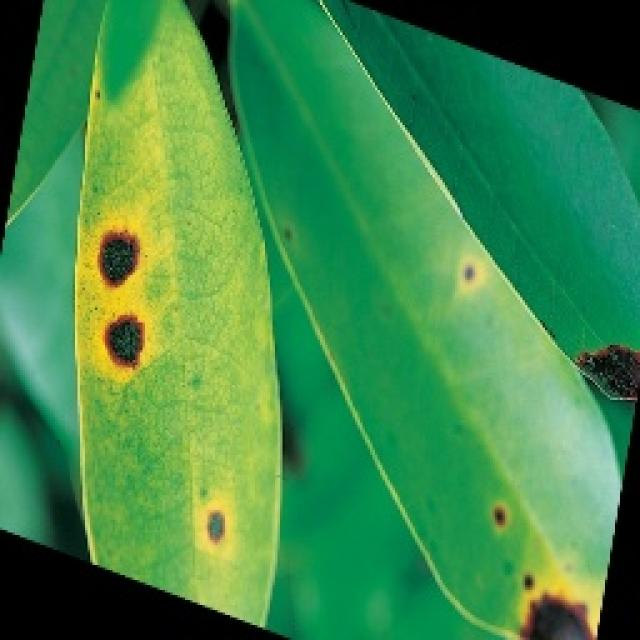Tar_Spot: (460, 527, 640, 640), (87, 182, 172, 367)
